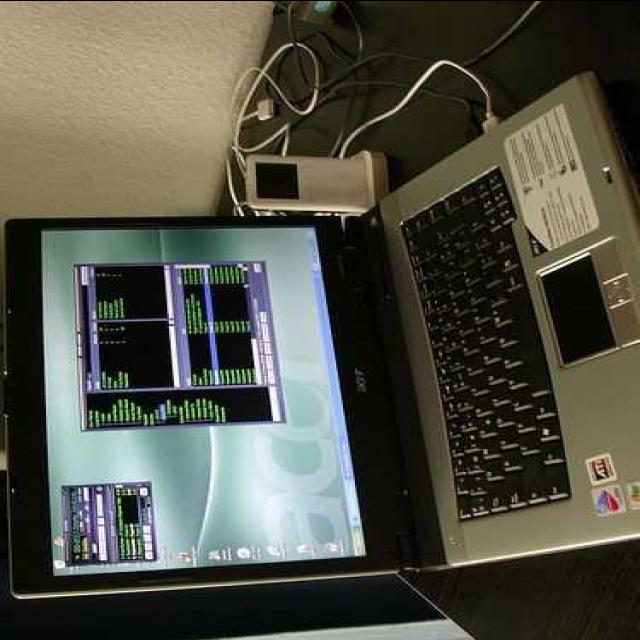laptop: (1, 30, 640, 605)
